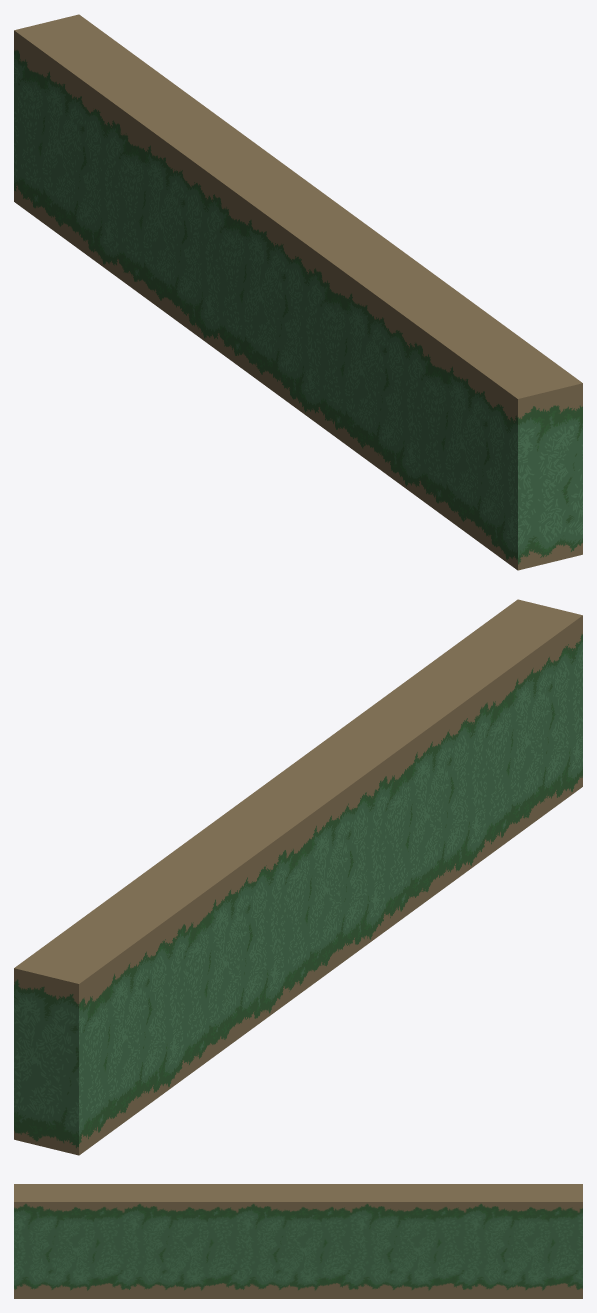
The model's file is Hede_5.fbx.
The picture shows the model from 3 angles, top to bottom: view 1: azimuth 30°, elevation 25°; view 2: azimuth 150°, elevation 25°; view 3: azimuth 270°, elevation 25°; orthographic projection. The views are drawn at different scales.
Parts seen in each view (by area): view 1: Hedge_1; view 2: Hedge_1; view 3: Hedge_1.
Part boxes in pixels (<box>): Hedge_1: <box>14,14,582,570</box>; Hedge_1: <box>14,599,582,1155</box>; Hedge_1: <box>14,1184,582,1298</box>.
Bounding box in the file's own units: 200 × 503 × 2678.
1 material, 1 textured.
